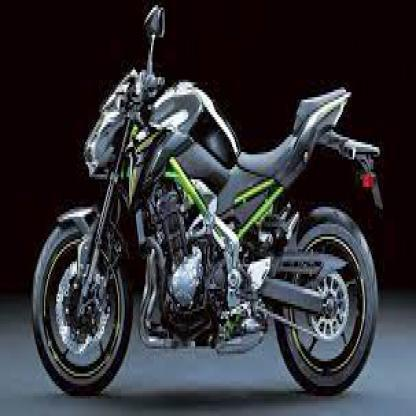Motorcycle: (27, 5, 388, 399)
